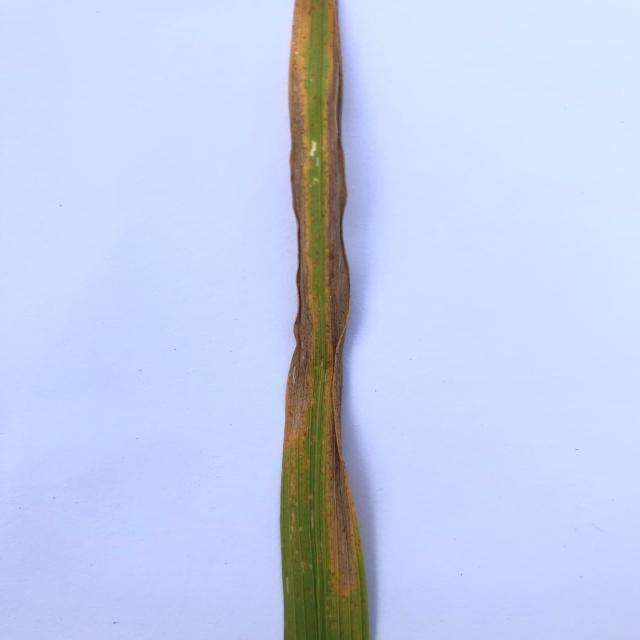Rice Tungro: (224, 1, 408, 640)
